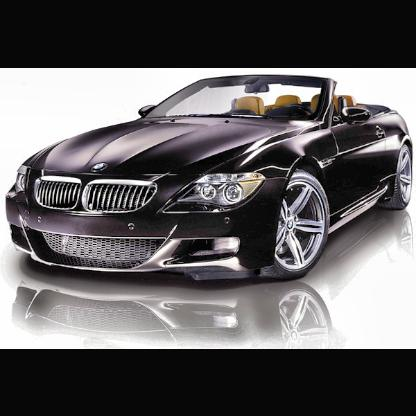BMW M6 Convertible 2010: (8, 73, 414, 283)
